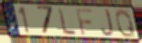1: (18, 6, 31, 35)
7: (35, 4, 55, 36)
F: (74, 8, 94, 37)
J: (99, 8, 115, 38)
L: (57, 7, 78, 37)
Q: (114, 8, 138, 39)
